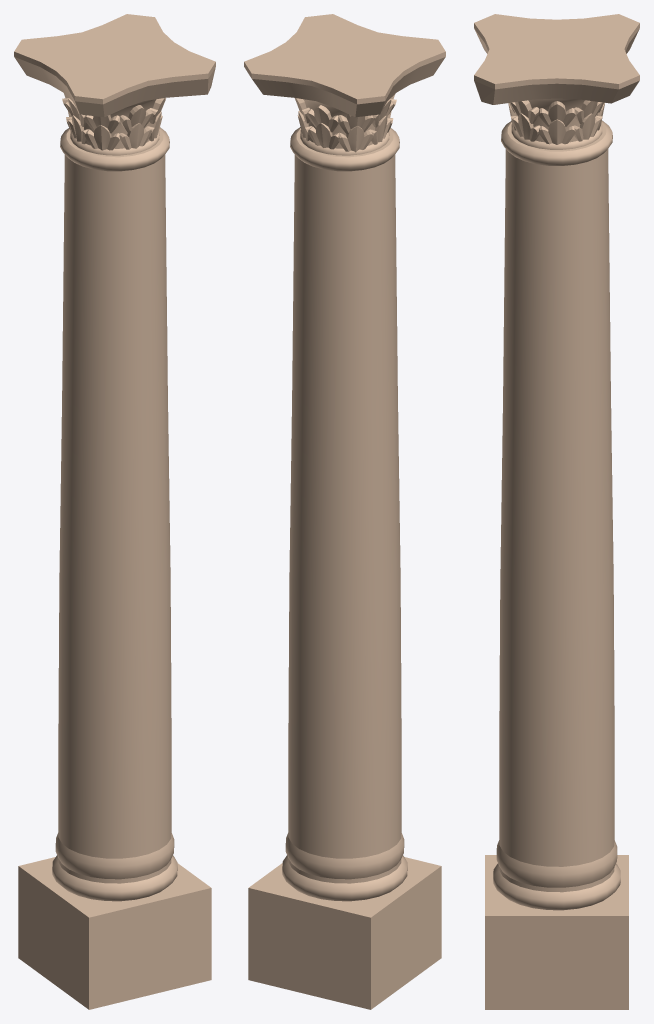
File: BC_TopPillar_B.fbx
3 renders of one model, left to right at view 1: azimuth 30°, elevation 25°; view 2: azimuth 150°, elevation 25°; view 3: azimuth 270°, elevation 25°, orthographic.
Parts seen in each view (by area): view 1: BC_TopPillar_B; view 2: BC_TopPillar_B; view 3: BC_TopPillar_B.
Boxes of the visible parts, x1,y1,x2,y2 form: BC_TopPillar_B: [14, 14, 215, 1009]; BC_TopPillar_B: [244, 14, 445, 1009]; BC_TopPillar_B: [474, 14, 639, 1009].
Size of the model in its own units: 133 by 824 by 133.
